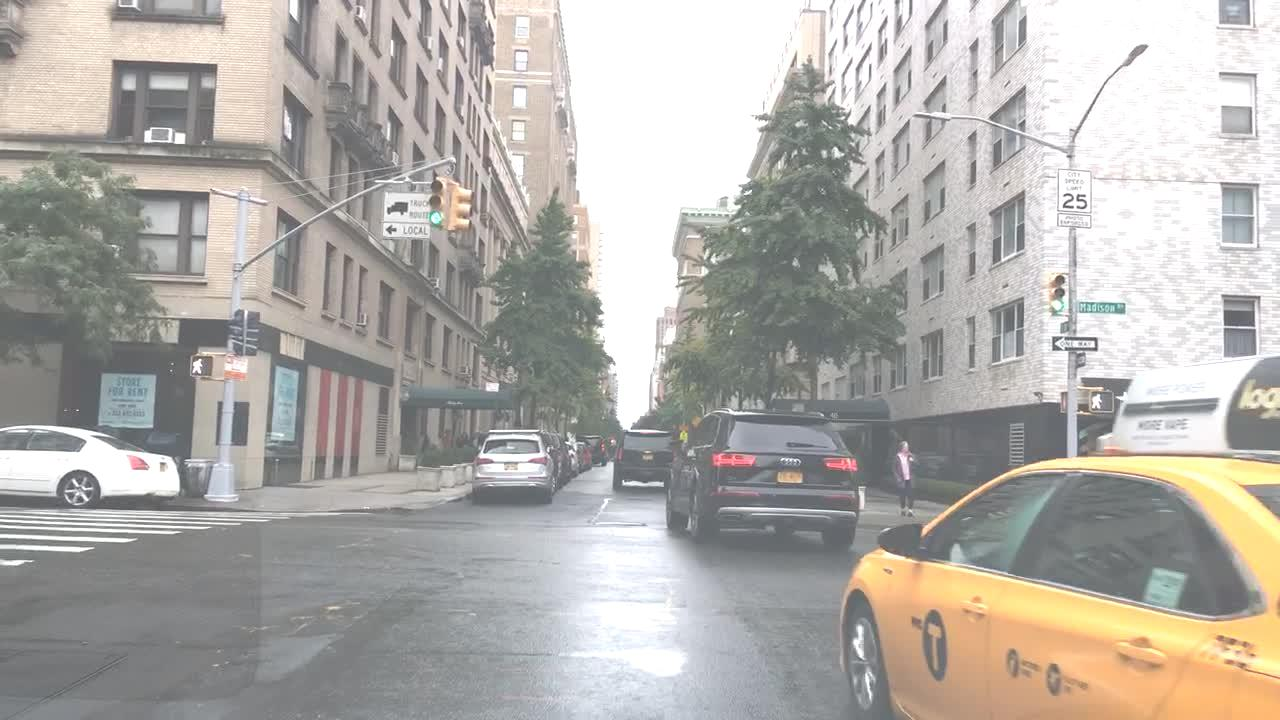Audi: (774, 451, 806, 472)
